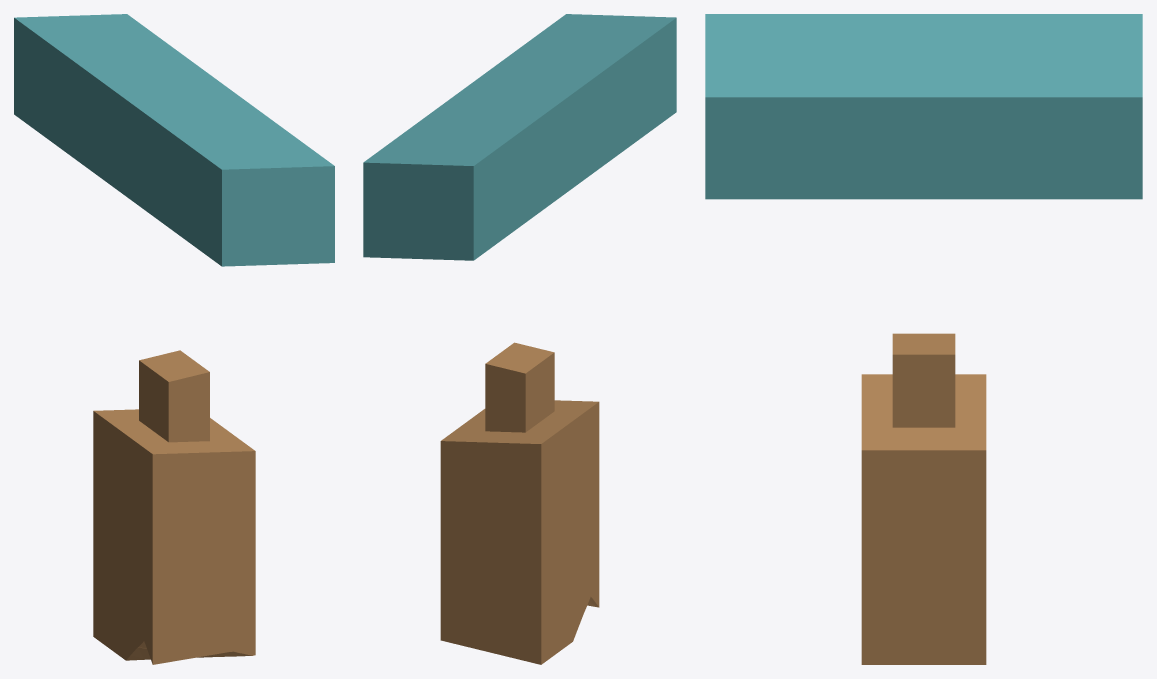
Rendered from deck_tenon_animated.glb.
3 views of the same model, side by side, from view 1: azimuth 30°, elevation 25°; view 2: azimuth 150°, elevation 25°; view 3: azimuth 270°, elevation 25° (orthographic). The views are drawn at different scales.
Parts seen in each view (by area): view 1: Moving, Fixed; view 2: Moving, Fixed; view 3: Moving, Fixed.
Part boxes in pixels (x1,y1,x2,y2): Moving: (14,14,334,266); Fixed: (93,350,255,664); Moving: (363,14,676,260); Fixed: (440,342,599,664); Moving: (705,14,1142,199); Fixed: (861,333,986,664).
Bounding box in the file's own units: 0.22 × 1.05 × 0.7.
